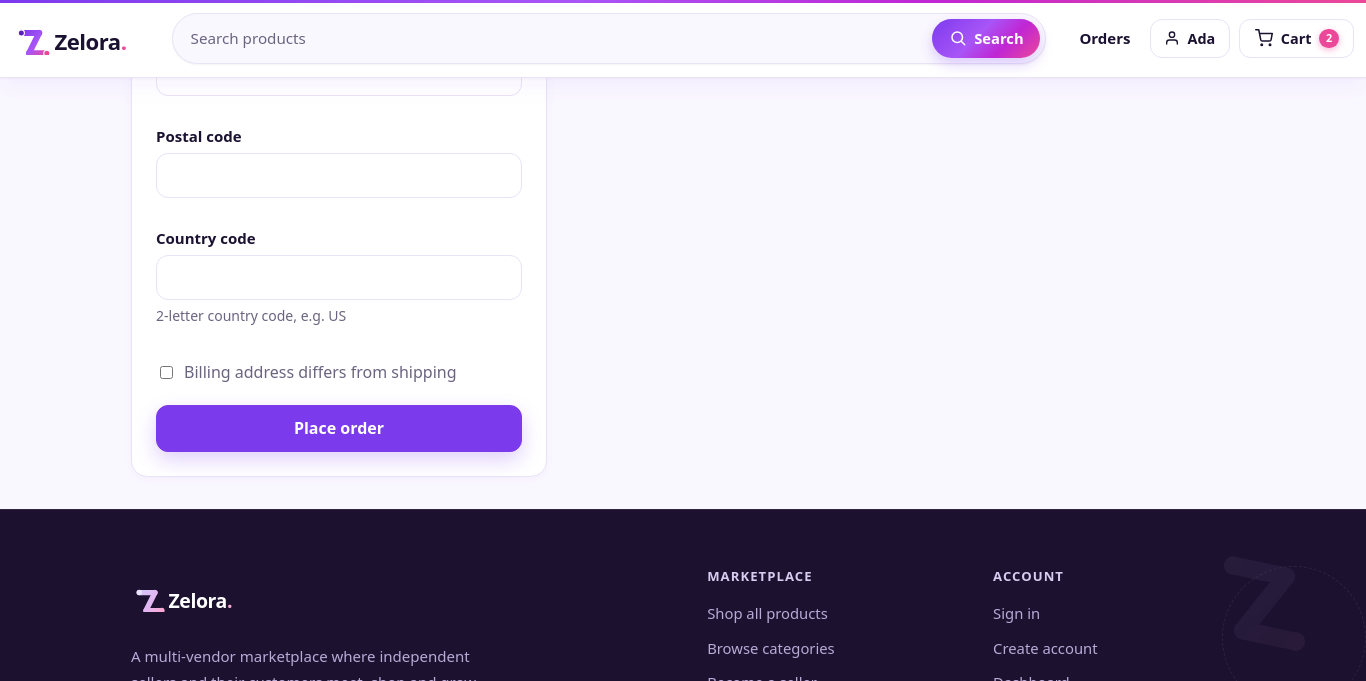
CheckoutPage › explains a key conflict as a finished checkout, not a retryable error
This screenshot has width=1366, height=681.
(page scrolled)
Step 1. Click the button "Place order" → (339, 429), box x1=156 y1=405 x2=522 y2=452
(page scrolled)
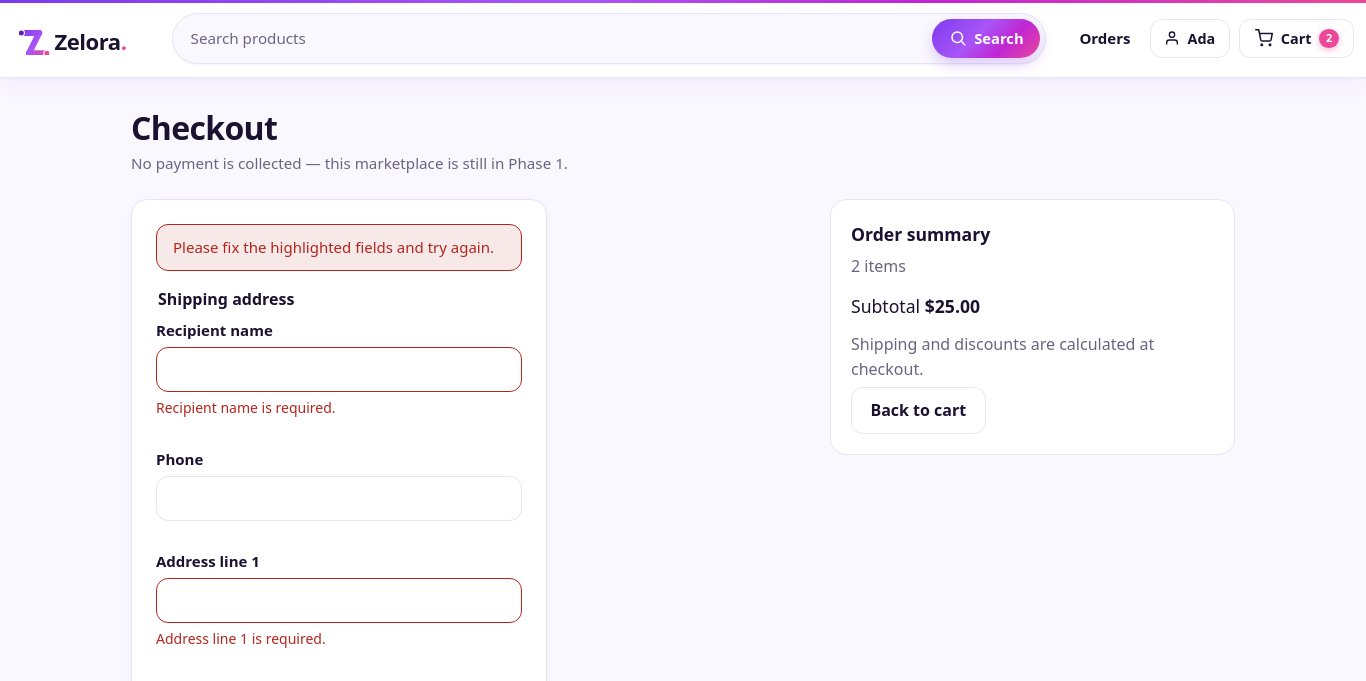
Step 2. Type "  Ada Lovelace  " into the field labelled "Recipient name" → (339, 370), box x1=156 y1=347 x2=522 y2=392
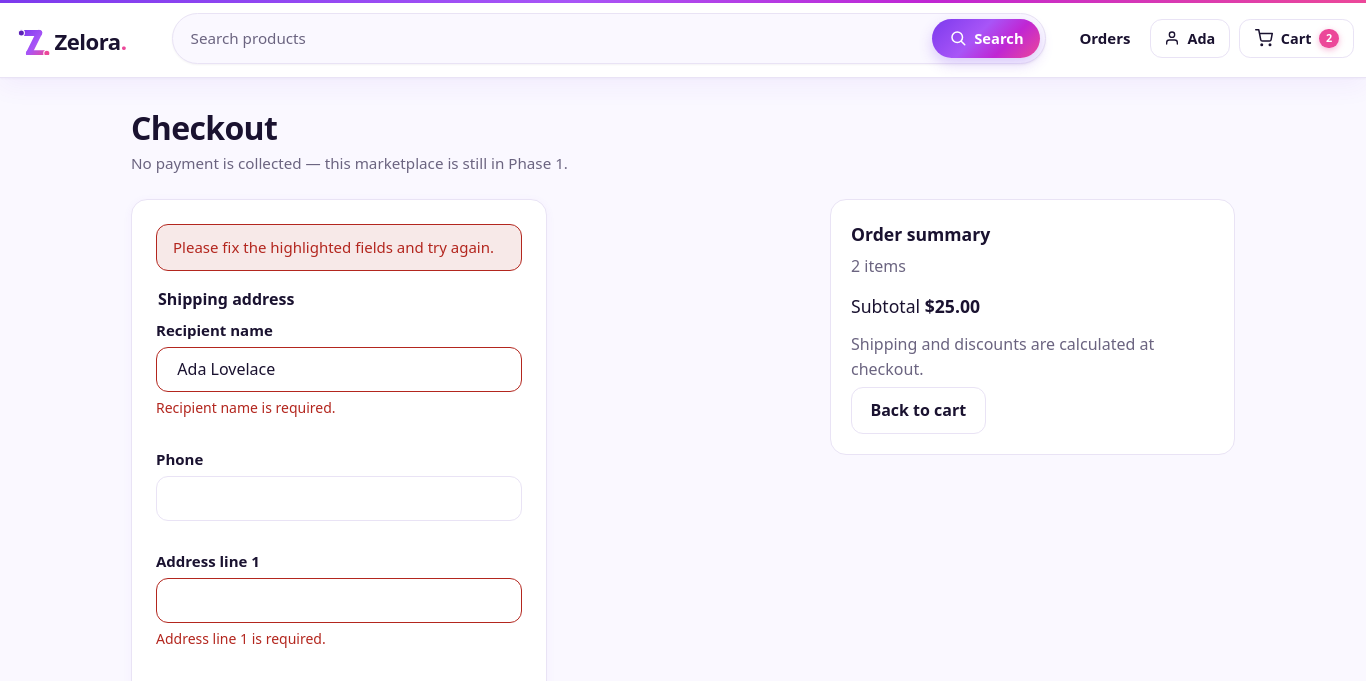
Step 3. Type "1 Analytical Engine Parade" into the field labelled "Address line 1" → (339, 601), box x1=156 y1=578 x2=522 y2=624
(page scrolled)
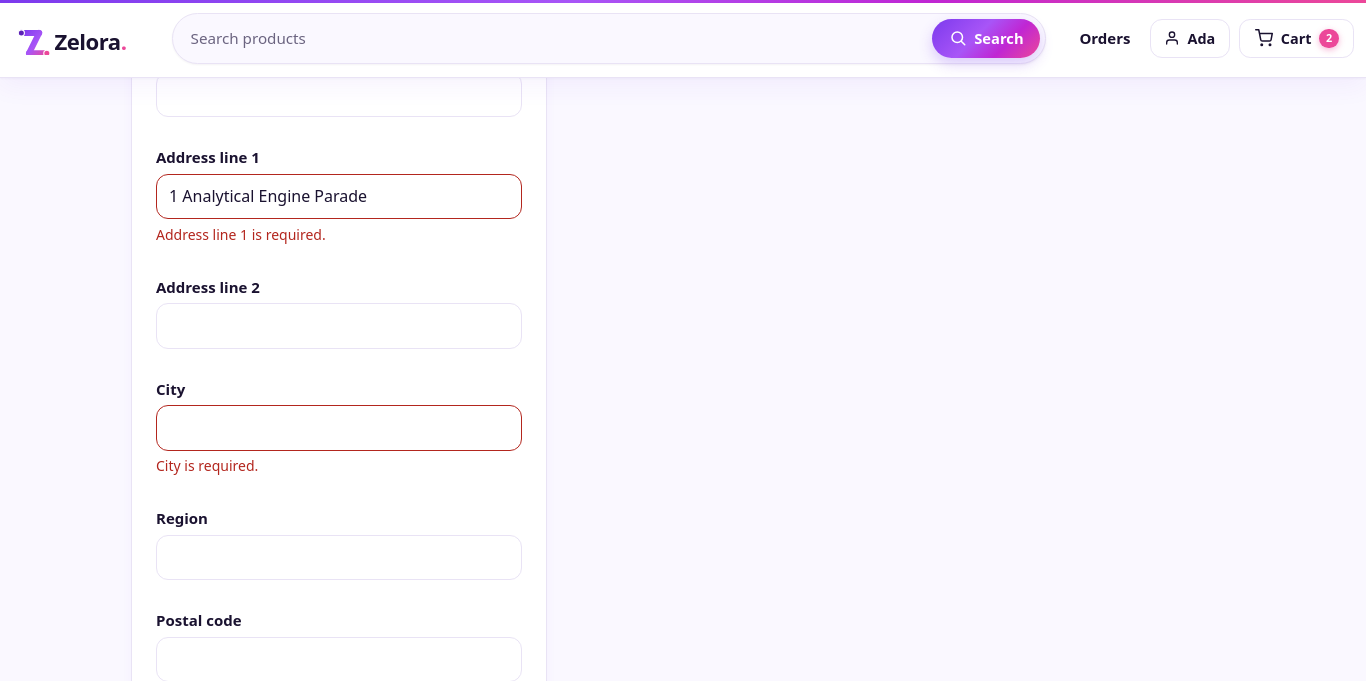
Step 4. Type "London" into the field labelled "City" → (339, 428), box x1=156 y1=405 x2=522 y2=451
(page scrolled)
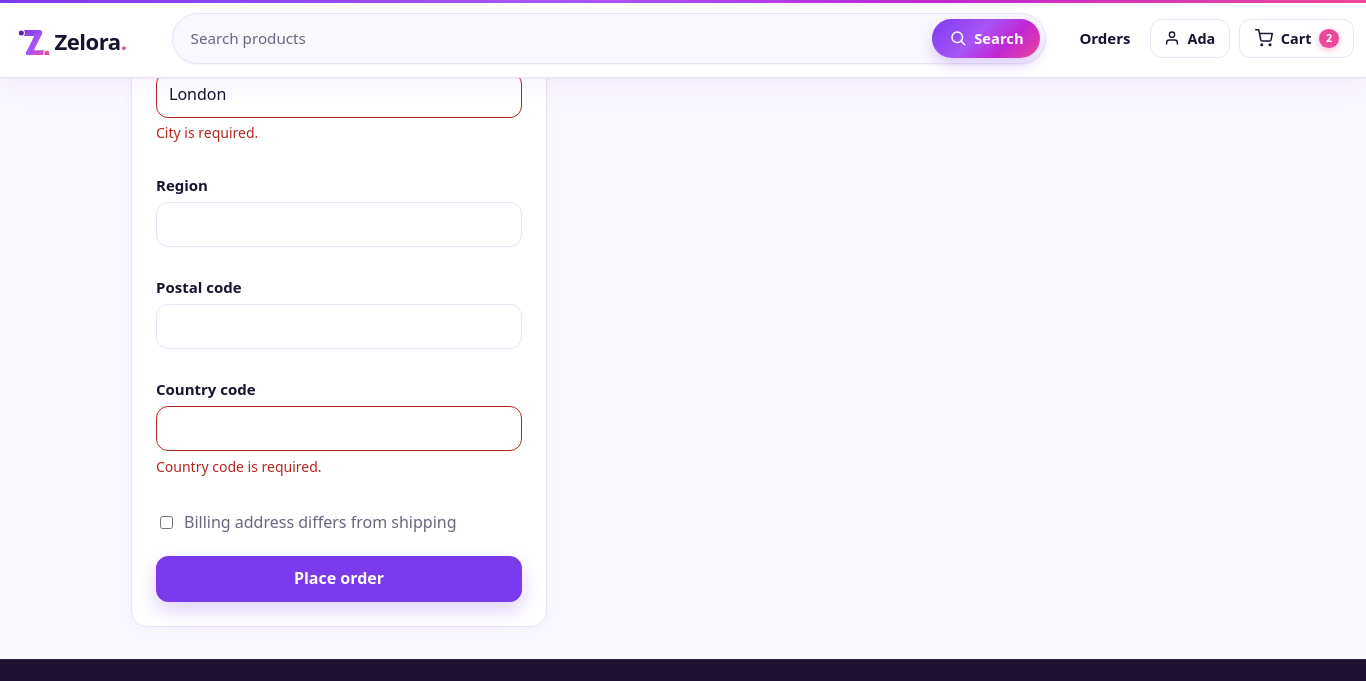
Step 5. Type "gb" into the field labelled "Country code" → (339, 428), box x1=156 y1=406 x2=522 y2=451
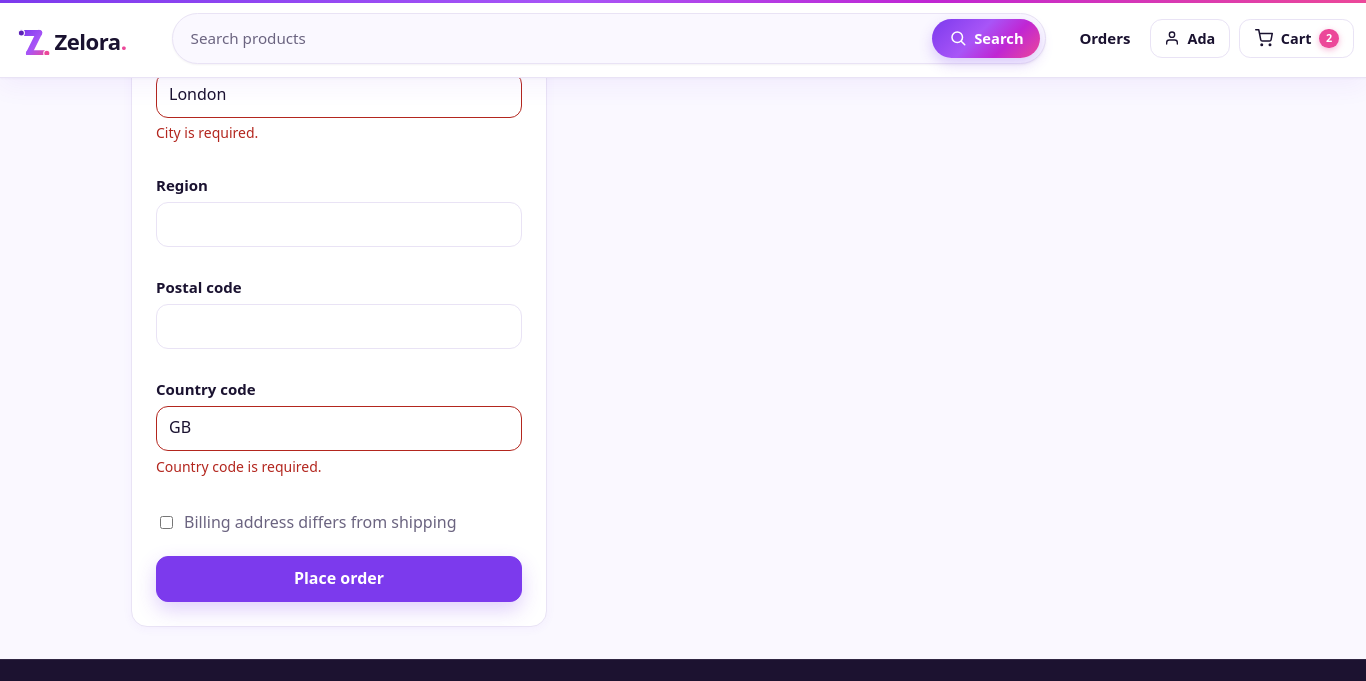
Step 6. Click the button "Place order" → (339, 579), box x1=156 y1=556 x2=522 y2=602
(page scrolled)
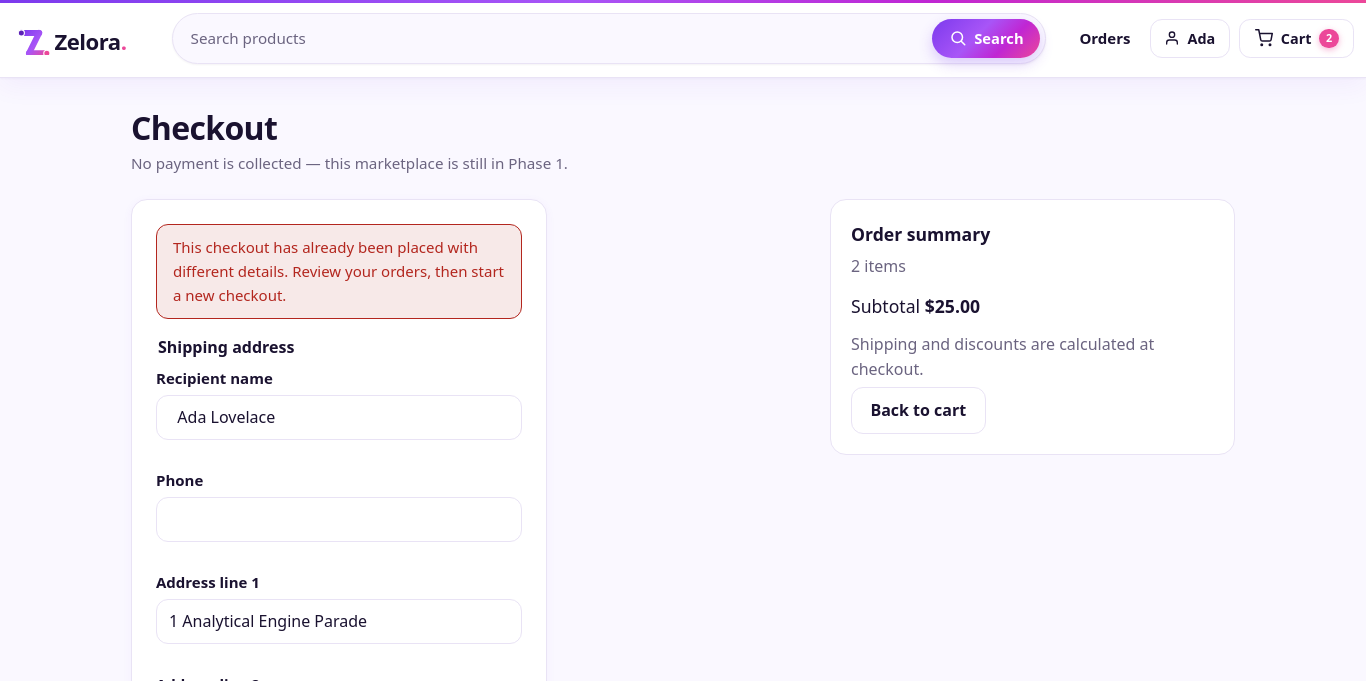
expect the message shows "already been placed": met, box x1=173 y1=237 x2=504 y2=305
